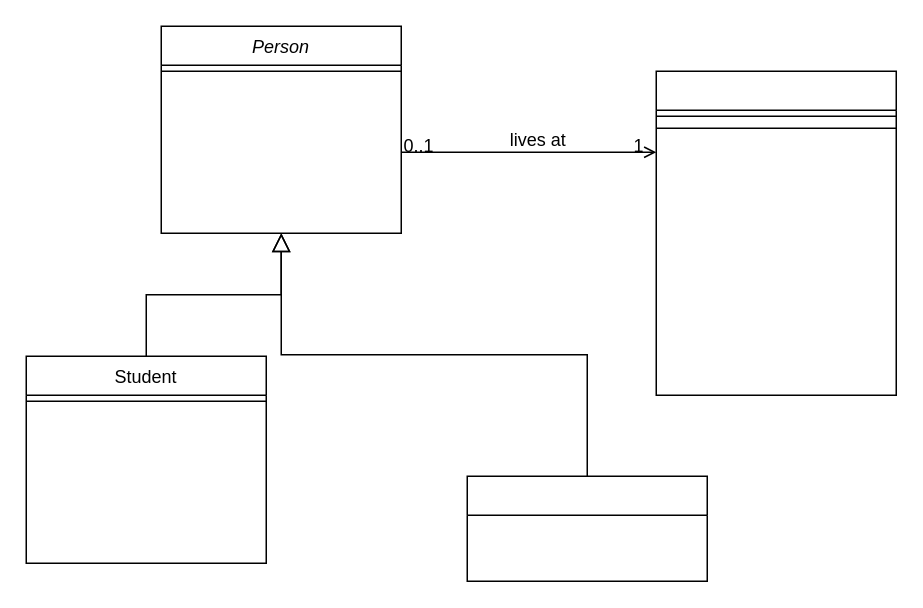
Image size: 923x608. Some labels were removed from this diagram. Here are the shapes that lost their labels. From the top down, the centre of each, then its label:
point (775, 232): Address
point (586, 528): Professor
